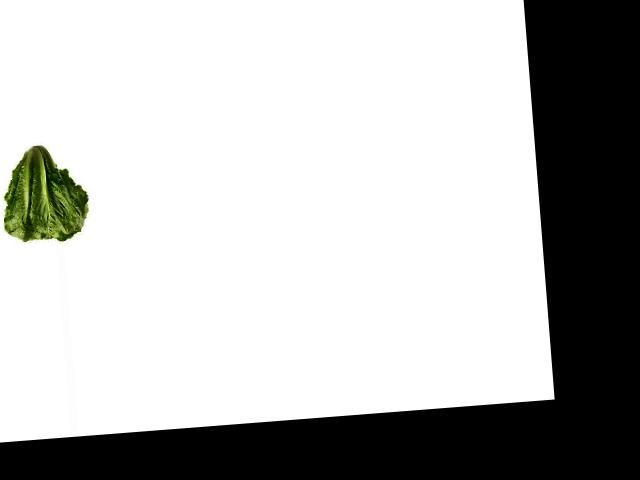lettuce: (1, 136, 94, 247)
